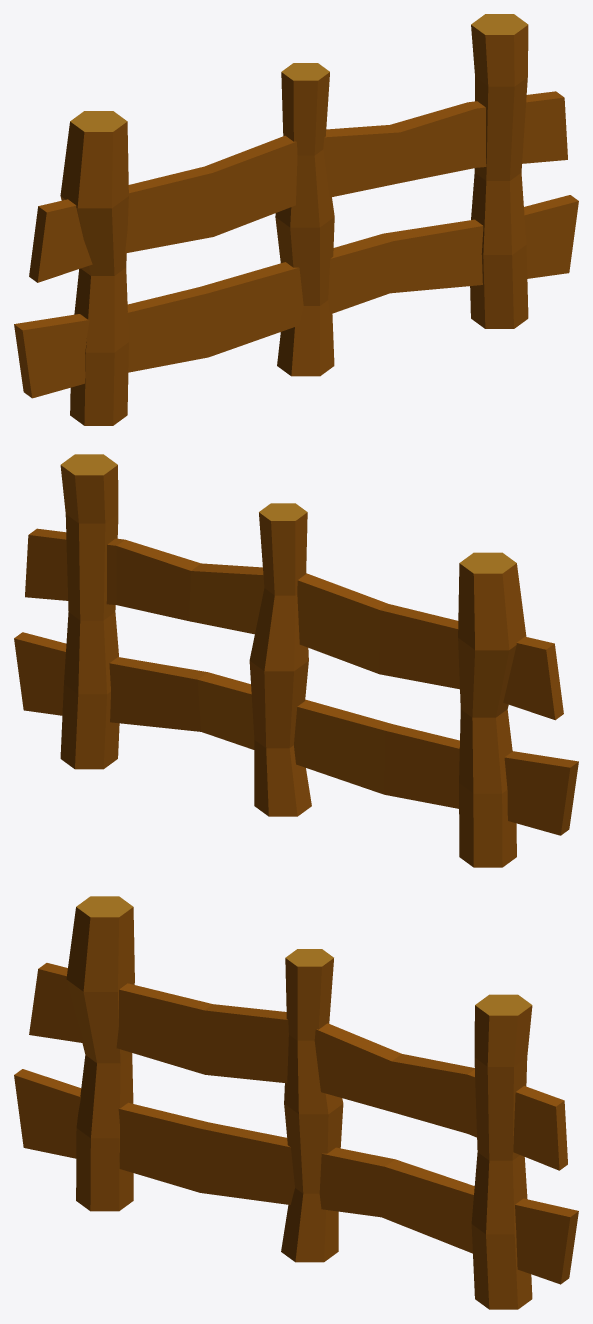
The model's file is fence.fbx.
The picture shows the model from 3 angles, top to bottom: view 1: azimuth 30°, elevation 25°; view 2: azimuth 150°, elevation 25°; view 3: azimuth 330°, elevation 25°; orthographic projection.
Visible parts, largest first — view 1: fence; view 2: fence; view 3: fence.
Part boxes in pixels (x1=…): fence: x1=14, y1=14, x2=578, y2=425; fence: x1=14, y1=454, x2=578, y2=867; fence: x1=14, y1=896, x2=578, y2=1309.
Bounding box in the file's own units: 608 × 307 × 64.87.
